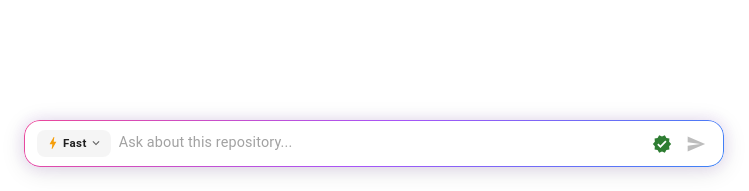
Test: AskBar — verified-only filter › keeps icon filled and aria-pressed=true when verifiedOnly is on but mode != fast
This screenshot has width=749, height=191.
Switch to Deep mode
Click the text "Fast": x=75, y=143 [63, 134, 87, 153]
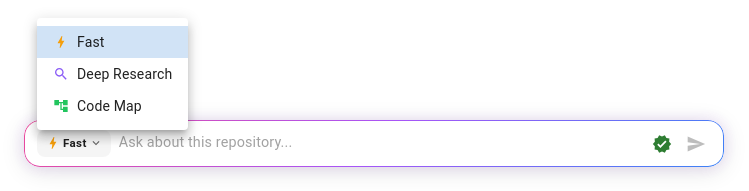
Click the menu item "Deep Research": x=113, y=74 [53, 66, 172, 82]
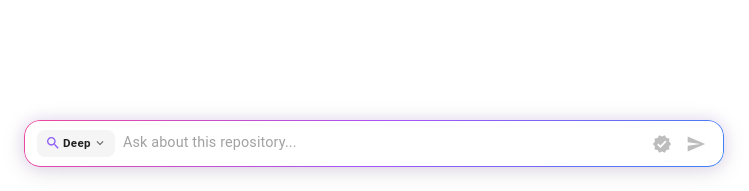
Result: the button named "verified-only filter" is disabled at [647, 128, 677, 158]
